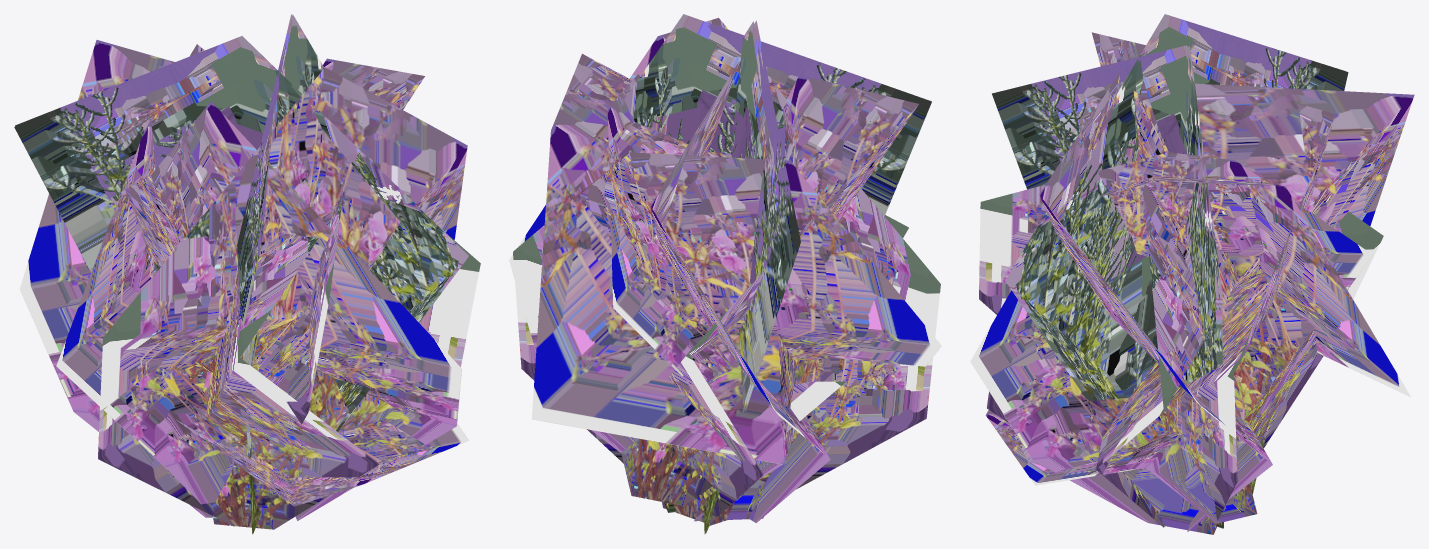
File: Plant_FlowersPurple.FBX
3 renders of one model, left to right at view 1: azimuth 30°, elevation 25°; view 2: azimuth 150°, elevation 25°; view 3: azimuth 270°, elevation 25°, orthographic.
Parts seen in each view (by area): view 1: Plant_FlowersPurple; view 2: Plant_FlowersPurple; view 3: Plant_FlowersPurple.
Part boxes in pixels (box(x1,y1,x2,y2)): Plant_FlowersPurple: box(14, 14, 480, 534); Plant_FlowersPurple: box(509, 14, 941, 534); Plant_FlowersPurple: box(970, 14, 1414, 534).
Bounding box in the file's own units: 65.75 × 72.65 × 60.01.
